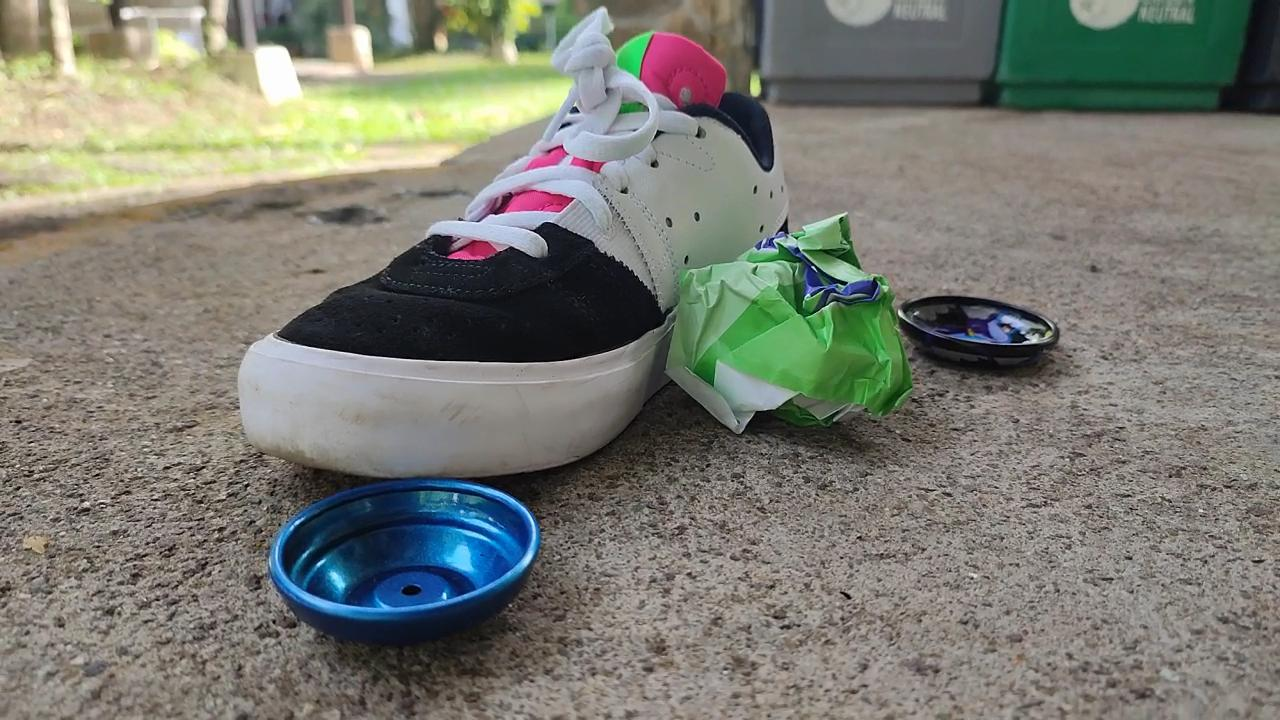Paper: (658, 190, 920, 449)
